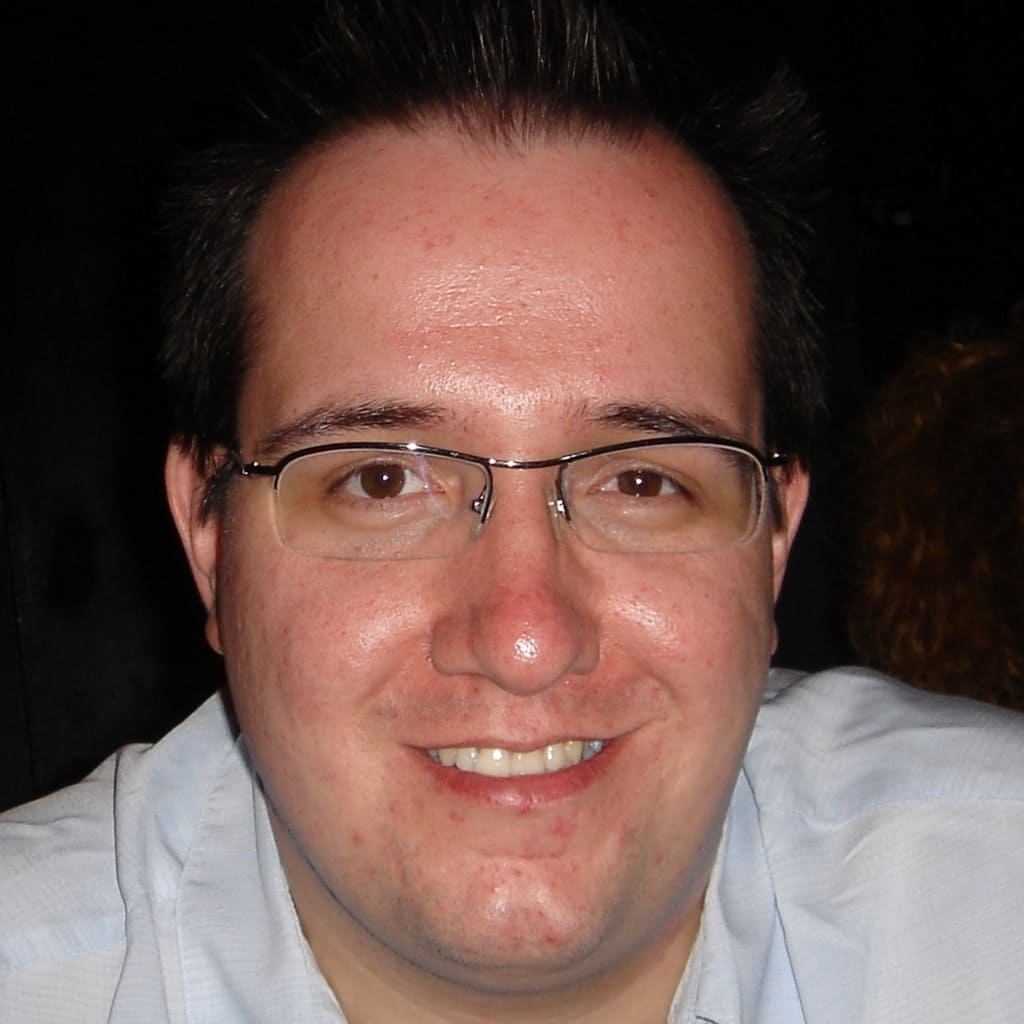without_mask: (248, 269, 766, 907)
